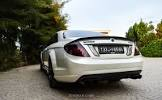fiat: (38, 28, 149, 89)
